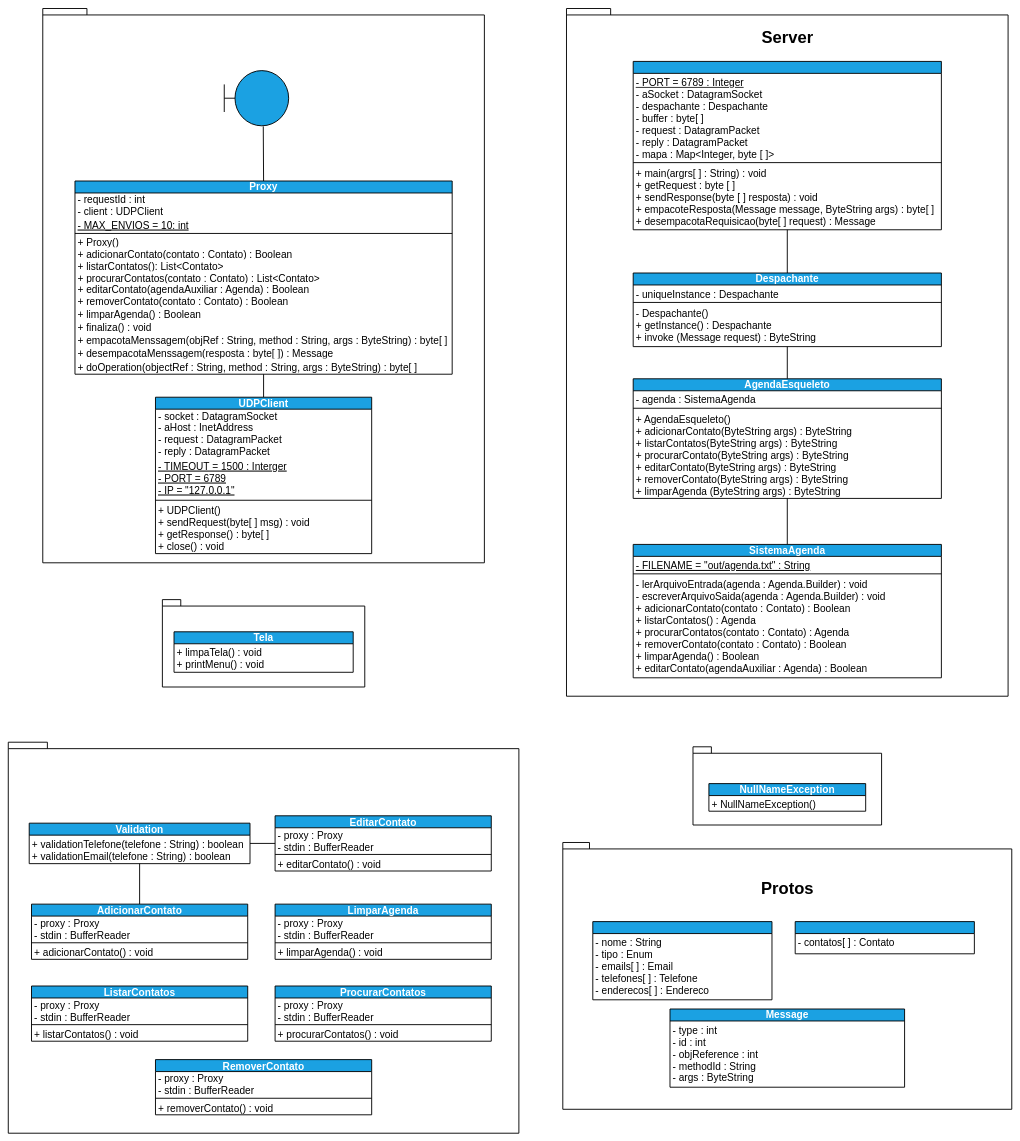
Some shapes in this 1020 by 1141 pixel diagram are drawn without their labels. The box of each missing label's shape, as (x1, y1, x2, y2) in pixels:
Agenda: (795, 921, 975, 954)
Cliente: (42, 8, 485, 563)
Contato: (592, 921, 772, 1000)
Execptions: (692, 746, 882, 825)
UDPServer: (632, 61, 942, 230)
UseCases: (8, 742, 519, 1133)
User: (224, 70, 289, 126)
Views: (162, 599, 365, 687)
